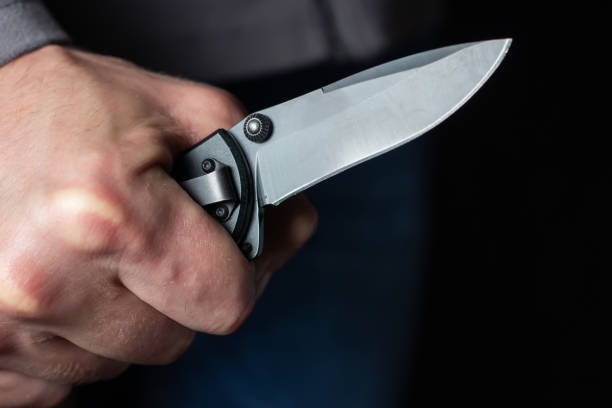knife: (175, 35, 516, 262)
